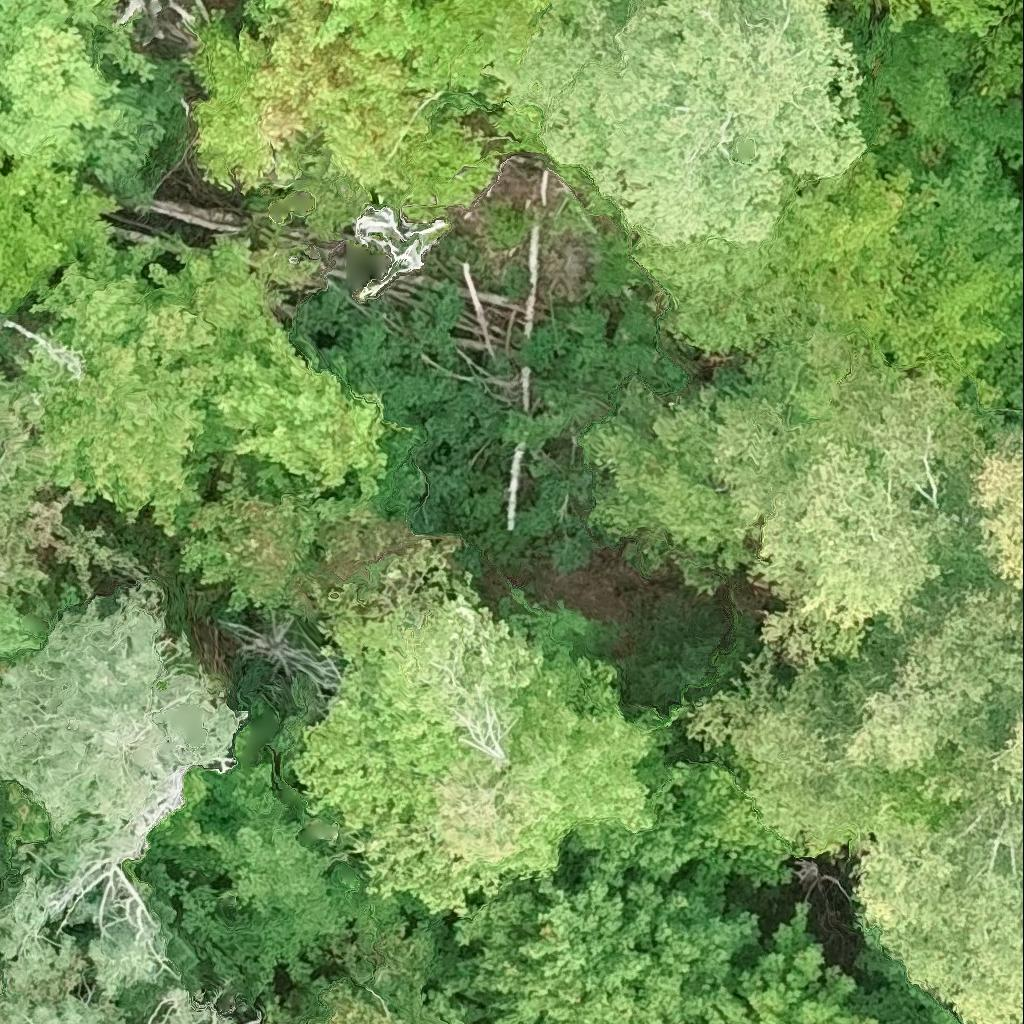crown: (294, 548, 655, 915), (17, 235, 425, 533), (639, 138, 1023, 434), (705, 311, 994, 675), (0, 580, 247, 999), (186, 0, 614, 235), (486, 0, 866, 247), (687, 618, 988, 857), (843, 514, 1023, 769), (181, 459, 460, 611), (475, 875, 759, 1023), (579, 376, 757, 593), (853, 796, 1023, 1023), (0, 0, 188, 203), (0, 371, 144, 622), (623, 766, 794, 883), (709, 901, 871, 1023), (0, 148, 120, 312), (921, 712, 1023, 873), (312, 922, 445, 1023), (881, 0, 1023, 86), (356, 207, 452, 302), (970, 426, 1023, 595), (222, 618, 345, 690), (0, 982, 125, 1023), (0, 593, 47, 656), (150, 991, 236, 1023), (67, 0, 132, 32), (0, 787, 19, 881), (969, 1019, 982, 1023)
